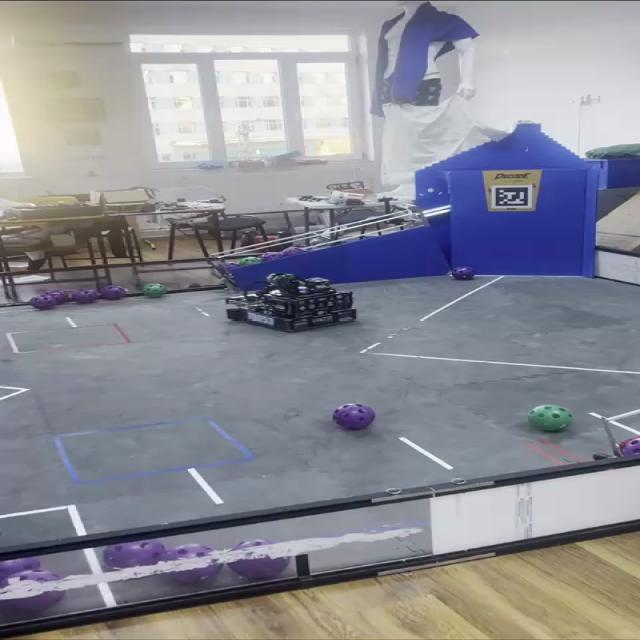artifact_green: (528, 405, 573, 432), (618, 436, 639, 456), (142, 284, 167, 298), (239, 257, 261, 266), (188, 283, 202, 288)
artifact_purple: (228, 540, 290, 579), (103, 540, 165, 568), (168, 559, 222, 585), (0, 591, 65, 612), (332, 404, 375, 430), (0, 557, 41, 579), (30, 295, 57, 310), (100, 285, 127, 300), (72, 290, 99, 304), (44, 290, 69, 304), (619, 439, 639, 456), (451, 267, 474, 280), (280, 247, 305, 257), (219, 262, 239, 273), (262, 252, 282, 261)
